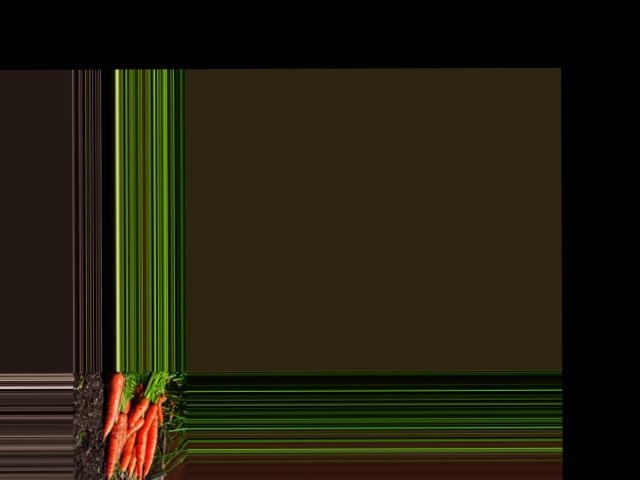carrot: (137, 401, 157, 479)
